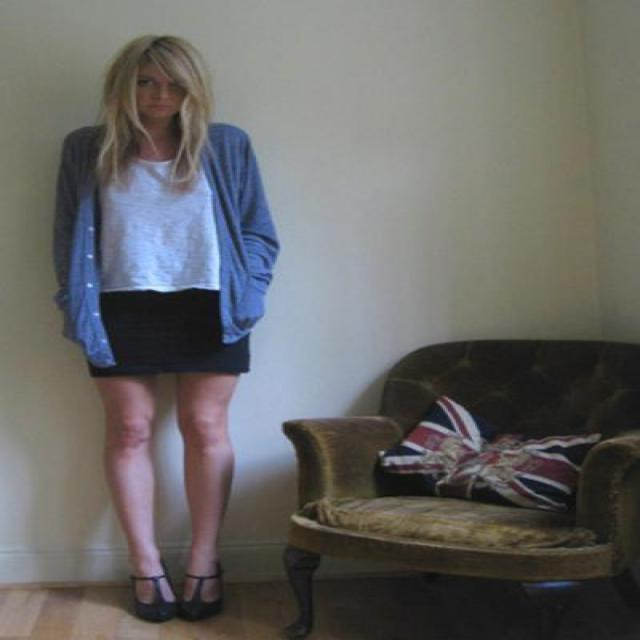jacket: (38, 124, 278, 365)
shirt: (74, 159, 225, 300)
shoe: (134, 564, 236, 623)
skirt: (86, 288, 248, 378)
